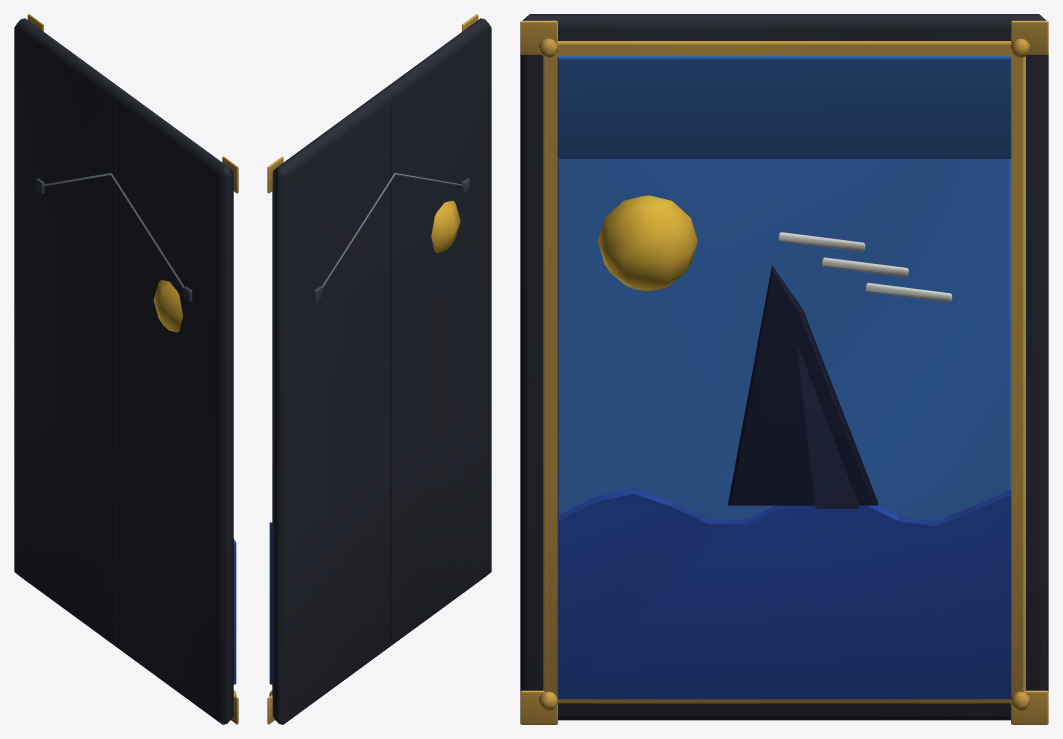
The model's file is SM_Deco_Poster_JawsOfTheStudio.fbx.
3 views of the same model, side by side, from view 1: azimuth 30°, elevation 25°; view 2: azimuth 150°, elevation 25°; view 3: azimuth 270°, elevation 25° (orthographic). The views are drawn at different scales.
Visible parts, largest first — view 1: SM_Deco_Poster_JawsOfTheStudio; view 2: SM_Deco_Poster_JawsOfTheStudio; view 3: SM_Deco_Poster_JawsOfTheStudio.
Part boxes in pixels (left/top/right/bottom): SM_Deco_Poster_JawsOfTheStudio: left=14, top=14, right=238, bottom=724; SM_Deco_Poster_JawsOfTheStudio: left=267, top=14, right=491, bottom=724; SM_Deco_Poster_JawsOfTheStudio: left=520, top=14, right=1048, bottom=724.
Size of the model in its own units: 32.17 by 250 by 170.
